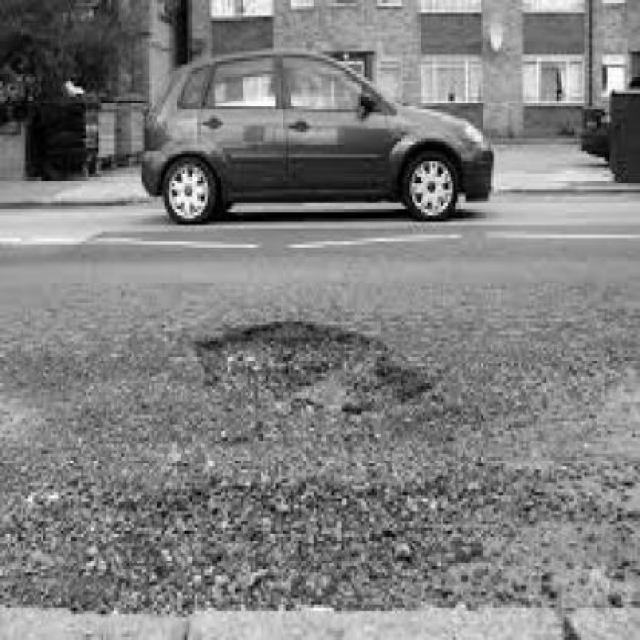pothole: (184, 308, 430, 418)
